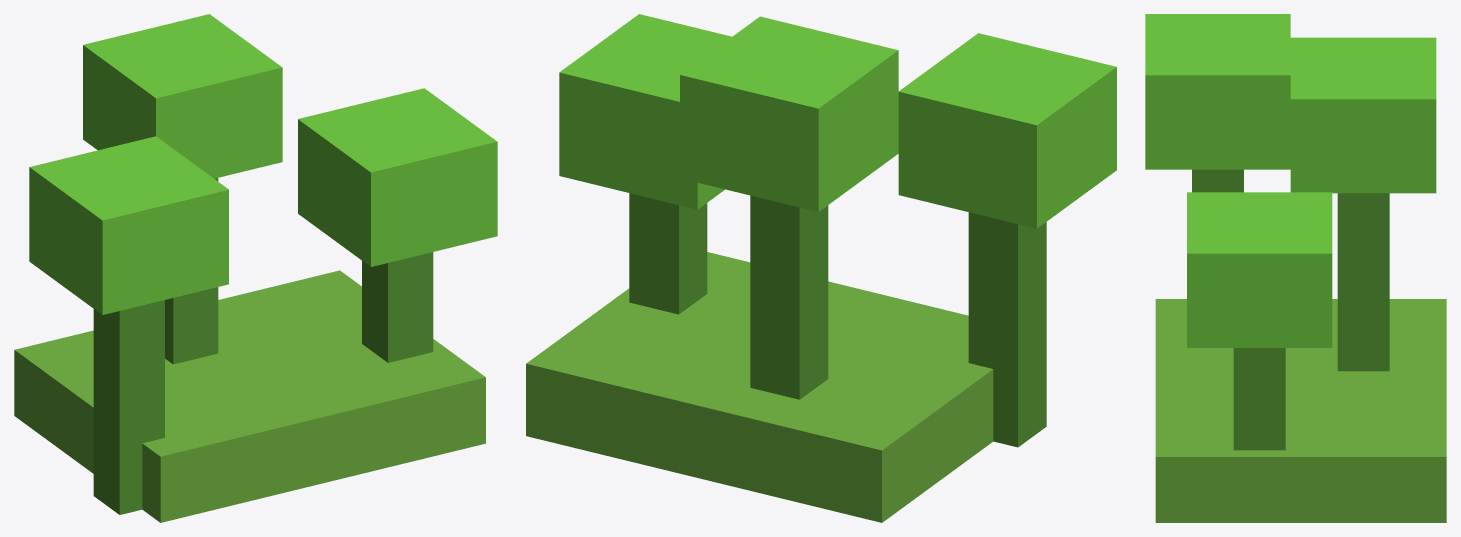
File: Flowers_Green.glb
3 views of the same model, side by side, from view 1: azimuth 30°, elevation 25°; view 2: azimuth 150°, elevation 25°; view 3: azimuth 270°, elevation 25° (orthographic). The views are drawn at different scales.
Parts seen in each view (by area): view 1: Flowers_Green; view 2: Flowers_Green; view 3: Flowers_Green.
Part boxes in pixels (x1=…): Flowers_Green: x1=14, y1=14, x2=497, y2=522; Flowers_Green: x1=526, y1=14, x2=1116, y2=522; Flowers_Green: x1=1145, y1=14, x2=1446, y2=522.
Size of the model in its own units: 2.3 by 1.9 by 1.45.
Materials: 1 (1 with a texture image).
